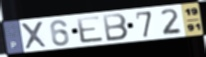2: (161, 7, 184, 37)
6: (49, 19, 71, 47)
7: (134, 10, 154, 38)
B: (101, 12, 130, 43)
E: (75, 14, 106, 45)
X: (19, 20, 50, 51)
